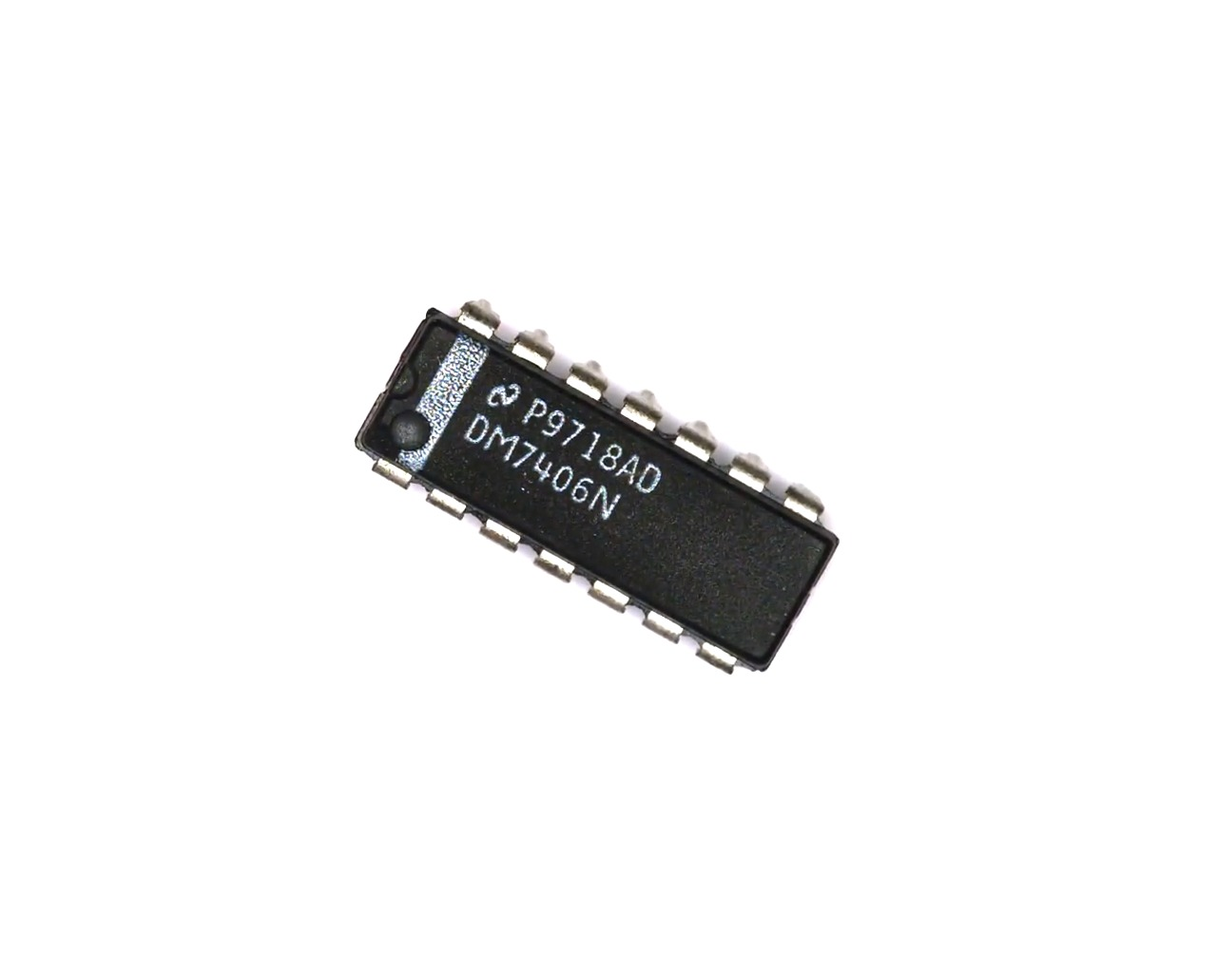IC: (332, 268, 867, 700)
notch: (384, 360, 425, 403)
